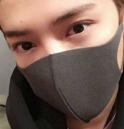with_mask: (1, 1, 124, 129)
